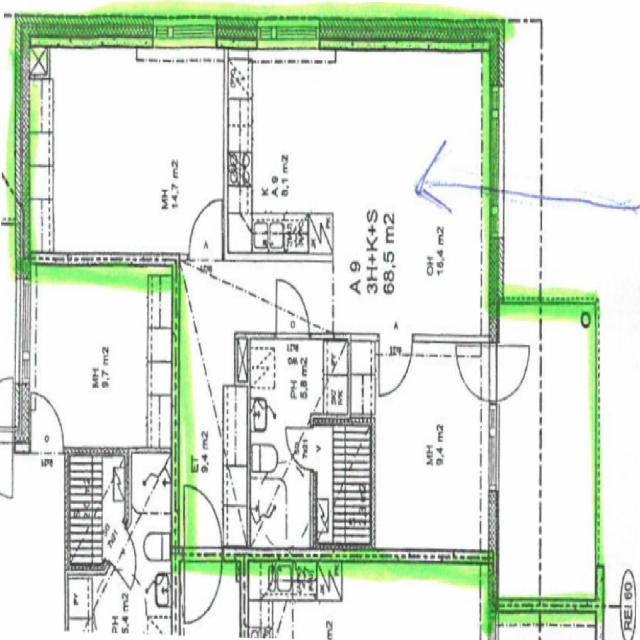door: (184, 488, 221, 562), (184, 550, 221, 624), (456, 345, 499, 401), (490, 345, 532, 401), (189, 199, 222, 261), (378, 334, 412, 394), (276, 279, 309, 340), (286, 428, 317, 469)
